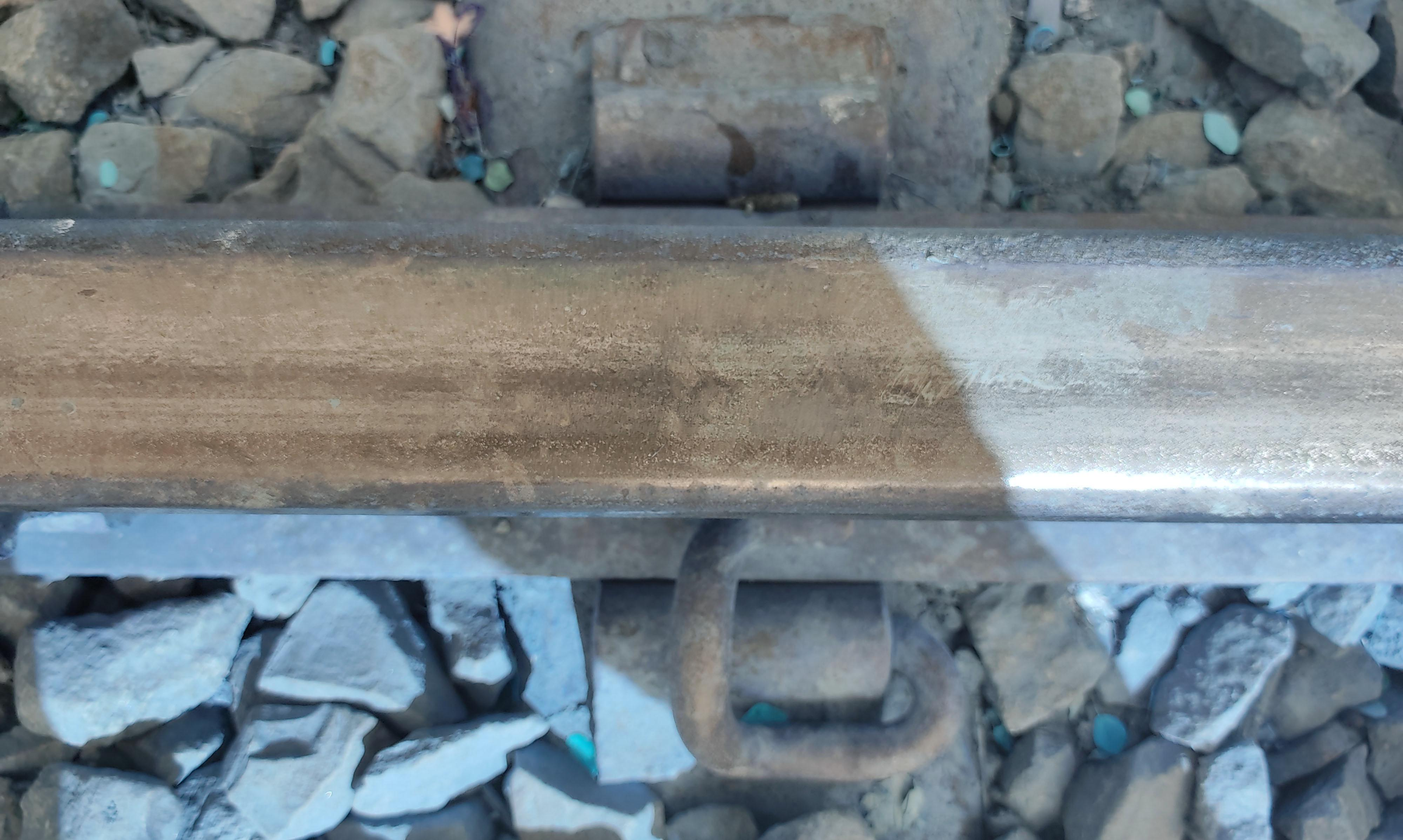Poor contact: (575, 542, 960, 809)
loss: (579, 35, 913, 192)
